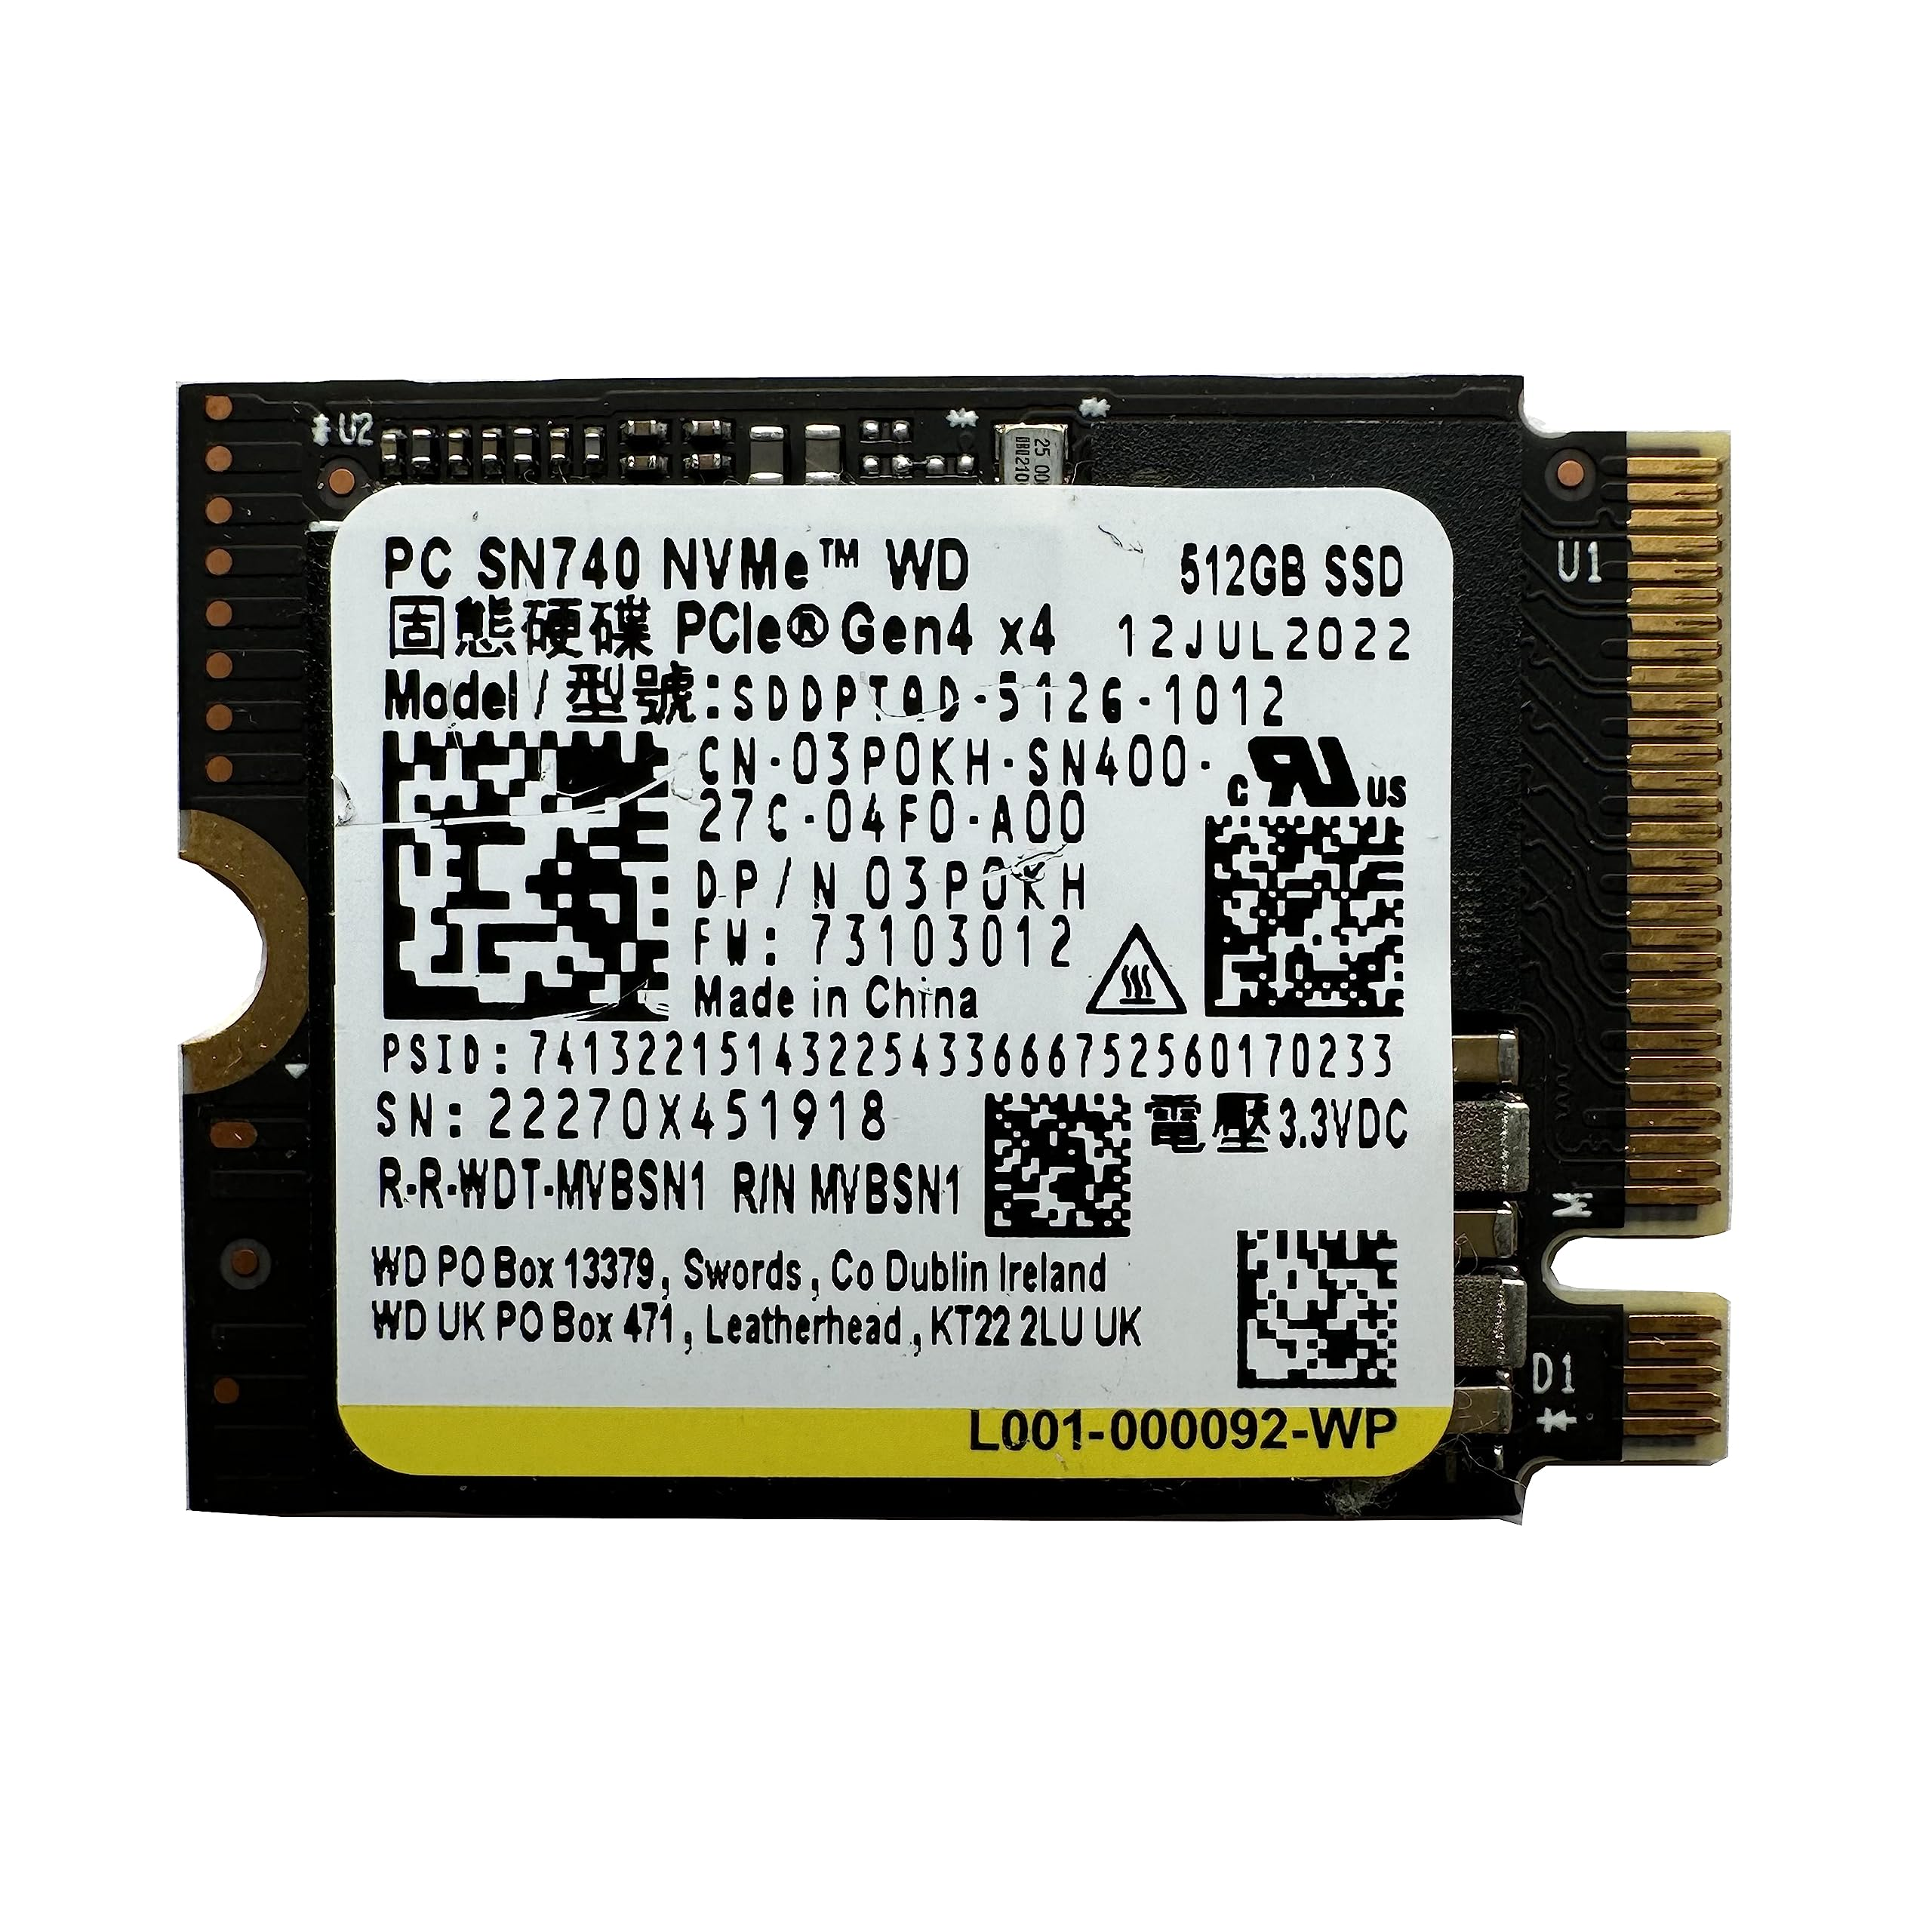ssd2230: (152, 373, 1757, 1553)
